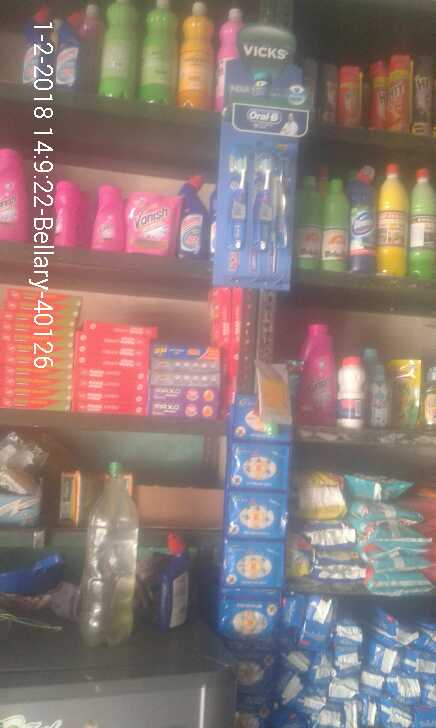oralb: (228, 142, 292, 251)
